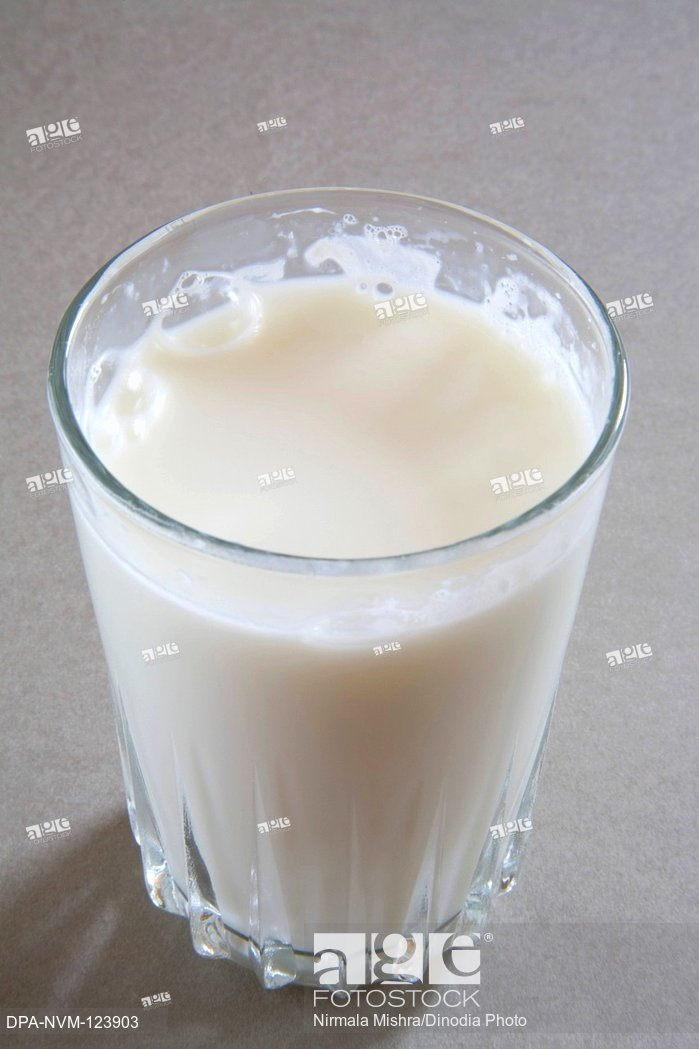glass of milk: (91, 246, 559, 934)
